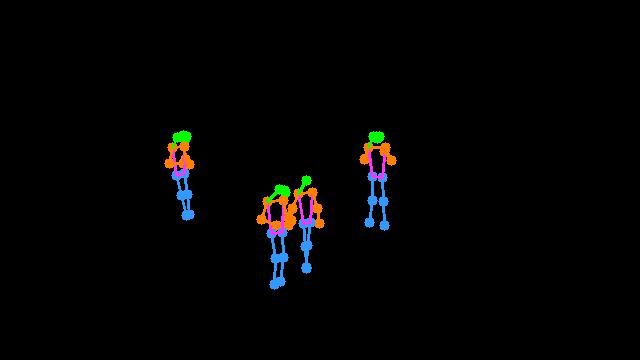normal: (240, 163, 345, 304)
